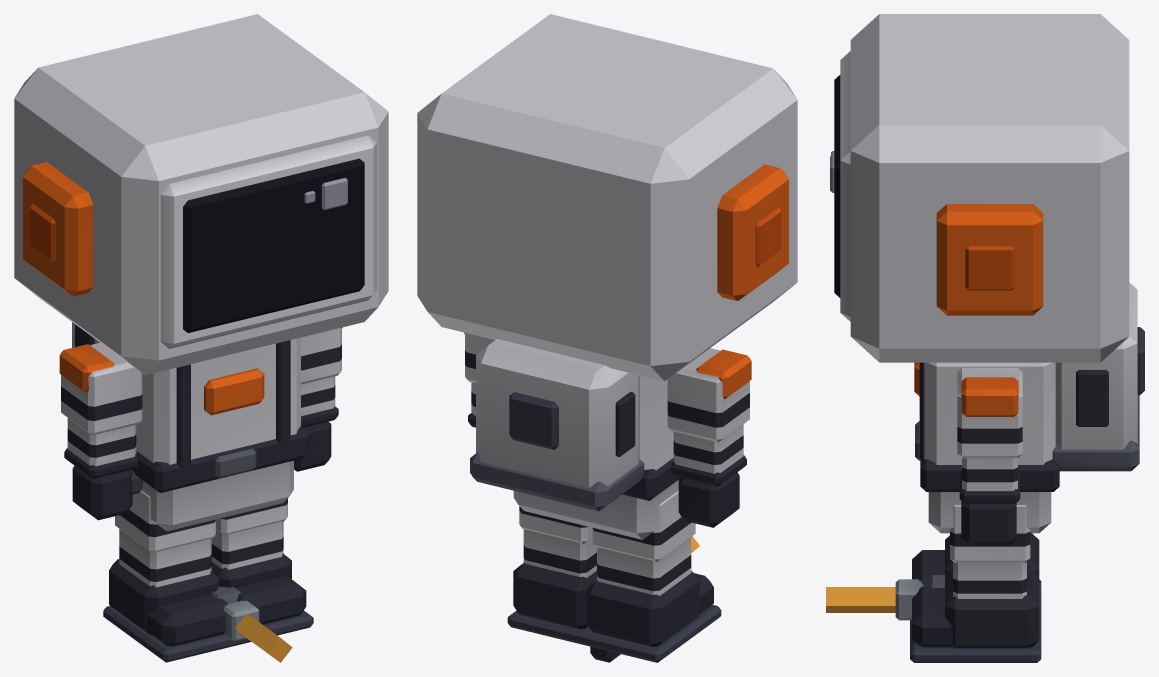
The model's file is astronaut.glb.
3 renders of one model, left to right at view 1: azimuth 30°, elevation 25°; view 2: azimuth 150°, elevation 25°; view 3: azimuth 270°, elevation 25°, orthographic. The views are drawn at different scales.
Parts seen in each view (by area): view 1: body_head, glow_visor, body_torso, body_pelvis, body_foot_l, body_arm_l, body_foot_r, body_shin_l, body_fore_l, body_leg_l, body_hand_l, body_shin_r (+6 smaller); view 2: body_head, body_pack, body_foot_l, body_arm_l, body_foot_r, body_pelvis, body_shin_l, body_fore_l, body_leg_l, body_torso, body_shin_r, body_hand_l (+2 smaller); view 3: body_head, body_pack, body_foot_r, body_torso, body_arm_r, body_pelvis, body_fore_r, body_shin_r, body_hand_r, body_leg_r, fx_bit, body_foot_l (+2 smaller).
Part boxes in pixels (box(x1,y1,x2,y2)): body_head: box(14, 14, 388, 375); glow_visor: box(183, 158, 364, 332); body_torso: box(136, 337, 300, 467); body_pelvis: box(131, 426, 309, 531); body_foot_l: box(103, 559, 239, 662); body_arm_l: box(59, 342, 142, 435); body_foot_r: box(211, 553, 313, 644); body_shin_l: box(119, 529, 211, 587); body_fore_l: box(64, 418, 138, 478); body_leg_l: box(115, 490, 215, 553); body_hand_l: box(72, 465, 142, 520); body_shin_r: box(211, 521, 283, 569); body_head: box(417, 14, 797, 381); body_pack: box(470, 339, 644, 511); body_foot_l: box(582, 571, 721, 662); body_arm_l: box(667, 348, 751, 442); body_foot_r: box(507, 562, 596, 644); body_pelvis: box(513, 458, 679, 539); body_shin_l: box(597, 537, 691, 595); body_fore_l: box(671, 424, 746, 486); body_leg_l: box(592, 491, 695, 562); body_torso: box(638, 375, 673, 470); body_shin_r: box(523, 529, 596, 577); body_hand_l: box(678, 472, 739, 527); body_head: box(830, 14, 1129, 362); body_pack: box(1052, 282, 1144, 471); body_foot_r: box(910, 567, 1041, 662); body_torso: box(914, 362, 1055, 464); body_arm_r: box(957, 368, 1022, 458); body_pelvis: box(915, 421, 1059, 533); body_fore_r: box(959, 458, 1020, 503); body_shin_r: box(953, 562, 1026, 598); body_hand_r: box(961, 501, 1016, 546); body_leg_r: box(950, 505, 1030, 562); fx_bit: box(826, 587, 895, 612); body_foot_l: box(912, 533, 1041, 616).
Bounding box in the file's own units: 0.94 × 1.58 × 0.778.
